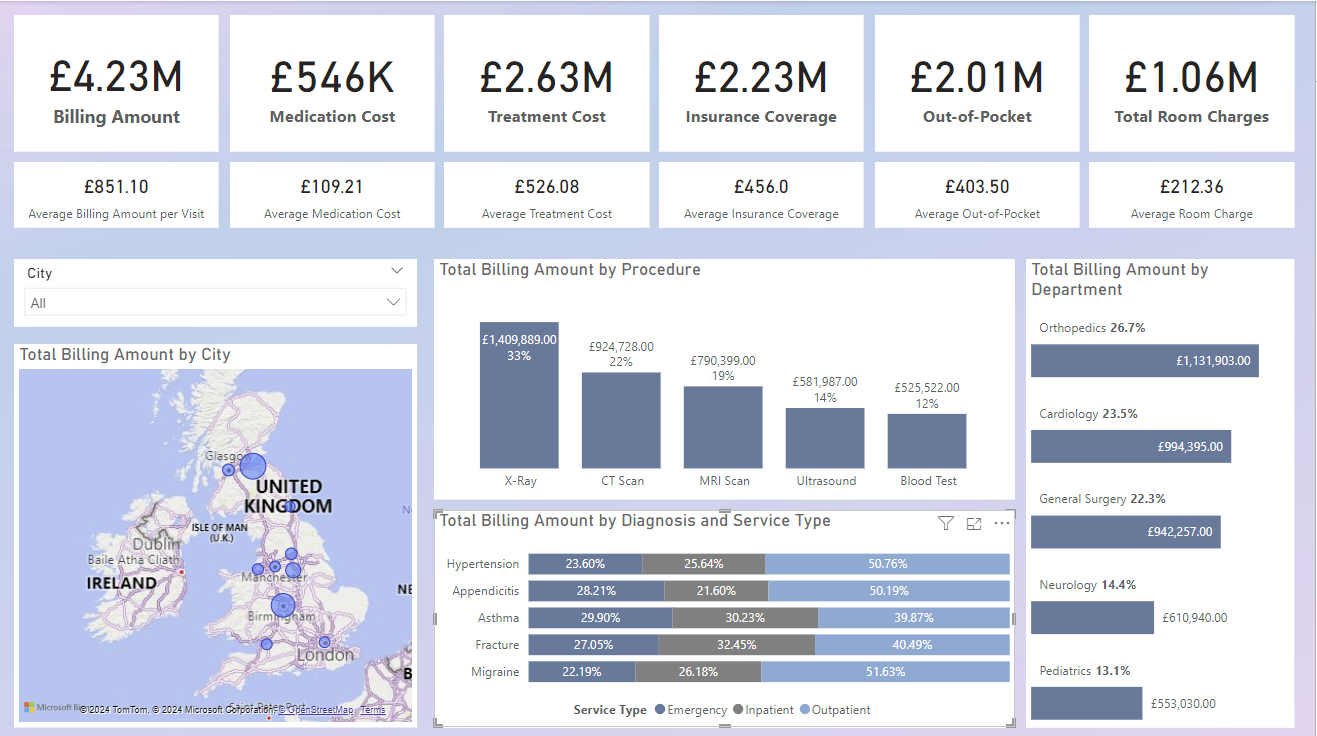

Layout of this report page (visuals, bound fields, positions):
{"tool":"powerbi","page":{"name":"Page 2","canvas":[1280,720],"ordinal":1},"visuals":[{"type":"card","title":"Billing Amount","fields":{"Values":["DAX Calculation.Total Billing Amount"]},"box":[14.7,13.7,198.9,132.6],"z":0},{"type":"card","fields":{"Values":["DAX Calculation.Total Medication Cost"]},"box":[224.2,13.7,198.9,132.6],"z":1000},{"type":"card","fields":{"Values":["DAX Calculation.Total Treatment Cost"]},"box":[432.6,13.7,200,132.6],"z":2000},{"type":"card","fields":{"Values":["DAX Calculation.Total Insurance Coverage"]},"box":[642.1,13.7,198.9,132.6],"z":3000},{"type":"card","fields":{"Values":["DAX Calculation.Out-of-Pocket"]},"box":[851.6,13.7,198.9,132.6],"z":4000},{"type":"card","fields":{"Values":["DAX Calculation.Total Room Charges"]},"box":[1060,13.7,200,132.6],"z":5000},{"type":"card","fields":{"Values":["DAX Calculation.Average Billing Amount per Visit"]},"box":[14.7,156.8,198.9,64.2],"z":6000},{"type":"card","fields":{"Values":["DAX Calculation.Average Medication Cost"]},"box":[224.2,156.8,198.9,64.2],"z":7000},{"type":"card","fields":{"Values":["DAX Calculation.Average Treatment Cost"]},"box":[432.6,156.8,200,64.2],"z":8000},{"type":"card","fields":{"Values":["DAX Calculation.Average Insurance Coverage"]},"box":[642.1,156.8,198.9,64.2],"z":9000},{"type":"card","fields":{"Values":["DAX Calculation.Average Out-of-Pocket"]},"box":[851.6,156.8,198.9,64.2],"z":10000},{"type":"card","fields":{"Values":["DAX Calculation.Average Room Charge"]},"box":[1060,156.8,200,64.2],"z":11000},{"type":"map","fields":{"Category":["cities.City"],"Size":["DAX Calculation.Total Billing Amount"]},"box":[14.7,333.7,391.6,372.6],"z":12000},{"type":"clusteredColumnChart","fields":{"Category":["procedures.Procedure"],"Y":["DAX Calculation.Total Billing Amount"]},"box":[423.2,250.5,565.3,233.7],"z":13000},{"type":"hundredPercentStackedBarChart","fields":{"Y":["DAX Calculation.Total Billing Amount"],"Category":["diagnoses.Diagnosis"],"Series":["visits.Service Type"]},"box":[423.2,494.7,565.3,211.6],"z":14000},{"type":"clusteredBarChart","title":"Total Billing Amount by Department","fields":{"Category":["departments.Department"],"Y":["DAX Calculation.Blank Measures","DAX Calculation.Total Billing Amount"]},"box":[998.9,250.5,261.1,455.8],"z":15000},{"type":"slicer","fields":{"Values":["cities.City"]},"box":[14.7,250.5,391.6,66.3],"z":16000}]}

Visuals, with their boxes in screenshot pixels (x1, y1, x2, y2), scaled from the page's 1280x720 canvas onto the 1317x736 screenshot:
"Billing Amount" card: l=15, t=14, r=220, b=150
card - DAX Calculation.Total Medication Cost: l=231, t=14, r=435, b=150
card - DAX Calculation.Total Treatment Cost: l=445, t=14, r=651, b=150
card - DAX Calculation.Total Insurance Coverage: l=661, t=14, r=865, b=150
card - DAX Calculation.Out-of-Pocket: l=876, t=14, r=1081, b=150
card - DAX Calculation.Total Room Charges: l=1091, t=14, r=1296, b=150
card - DAX Calculation.Average Billing Amount per Visit: l=15, t=160, r=220, b=226
card - DAX Calculation.Average Medication Cost: l=231, t=160, r=435, b=226
card - DAX Calculation.Average Treatment Cost: l=445, t=160, r=651, b=226
card - DAX Calculation.Average Insurance Coverage: l=661, t=160, r=865, b=226
card - DAX Calculation.Average Out-of-Pocket: l=876, t=160, r=1081, b=226
card - DAX Calculation.Average Room Charge: l=1091, t=160, r=1296, b=226
map - cities.City x DAX Calculation.Total Billing Amount: l=15, t=341, r=418, b=722
clusteredColumnChart - procedures.Procedure x DAX Calculation.Total Billing Amount: l=435, t=256, r=1017, b=495
hundredPercentStackedBarChart - DAX Calculation.Total Billing Amount x diagnoses.Diagnosis: l=435, t=506, r=1017, b=722
"Total Billing Amount by Department" clusteredBarChart: l=1028, t=256, r=1296, b=722
slicer - cities.City: l=15, t=256, r=418, b=324
